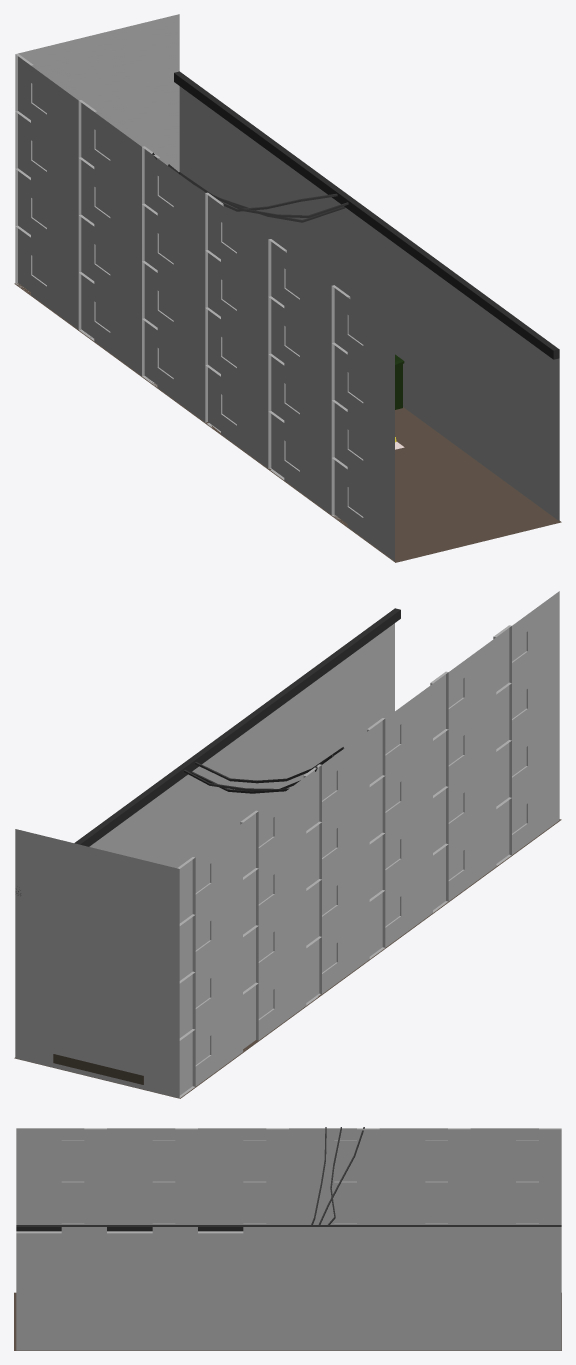
File: Alley.fbx
3 renders of one model, top to bottom at view 1: azimuth 30°, elevation 25°; view 2: azimuth 150°, elevation 25°; view 3: azimuth 270°, elevation 25°, orthographic. The views are drawn at different scales.
Parts seen in each view (by area): view 1: Plane.053, Plane.144, Floor, Plane.100, Plane.150, wire; view 2: Plane.053, Plane.100, Plane.144, Plane.150, wire, Cube.007, Floor; view 3: Plane.144, Plane.053, Plane.150, Floor, wire.
Part boxes in pixels (x1,y1,x2,y2): Plane.053: [15, 53, 394, 561]; Plane.144: [179, 86, 559, 521]; Floor: [14, 283, 561, 562]; Plane.100: [15, 14, 179, 282]; Plane.150: [174, 71, 559, 359]; wire: [152, 152, 348, 222]; Plane.053: [177, 591, 559, 1098]; Plane.100: [15, 829, 179, 1097]; Plane.144: [89, 623, 394, 868]; Plane.150: [16, 608, 400, 895]; wire: [184, 747, 344, 793]; Cube.007: [53, 1054, 143, 1084]; Floor: [14, 819, 561, 1098]; Plane.144: [16, 1227, 561, 1350]; Plane.053: [16, 1128, 561, 1224]; Plane.150: [16, 1225, 561, 1231]; Floor: [14, 1292, 561, 1350]; wire: [311, 1127, 364, 1224].
Bounding box in the file's own units: 607 × 814 × 2412.
